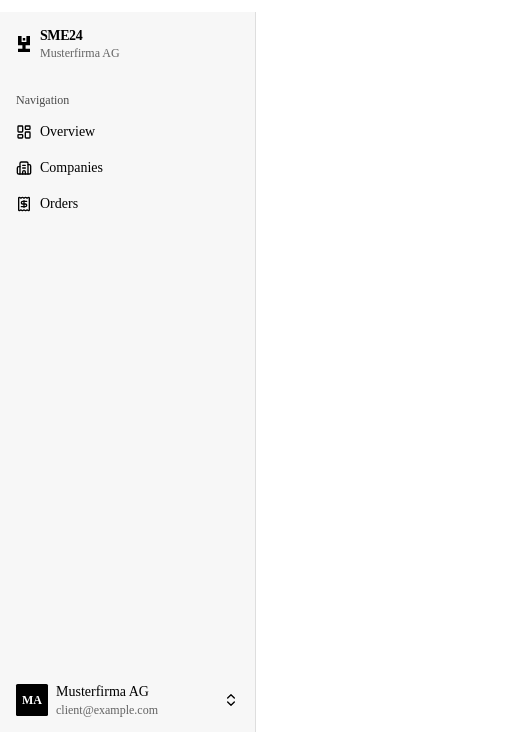
Scenario: AppSidebar, the client area › falls back to the address as the dropdown header when no full name is set
This screenshot has width=508, height=732.
Click the button with aria-label "User menu": (128, 700) [8,676,247,724]
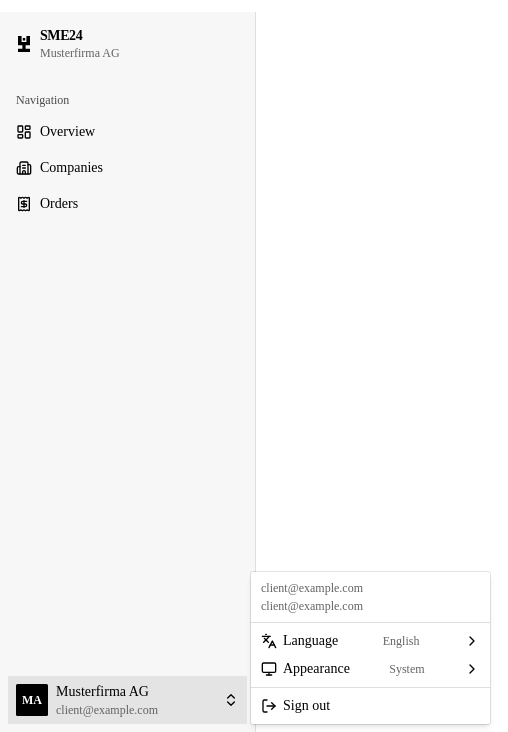
Check: the menu shows "client@example.com", box [261,581,363,595]
